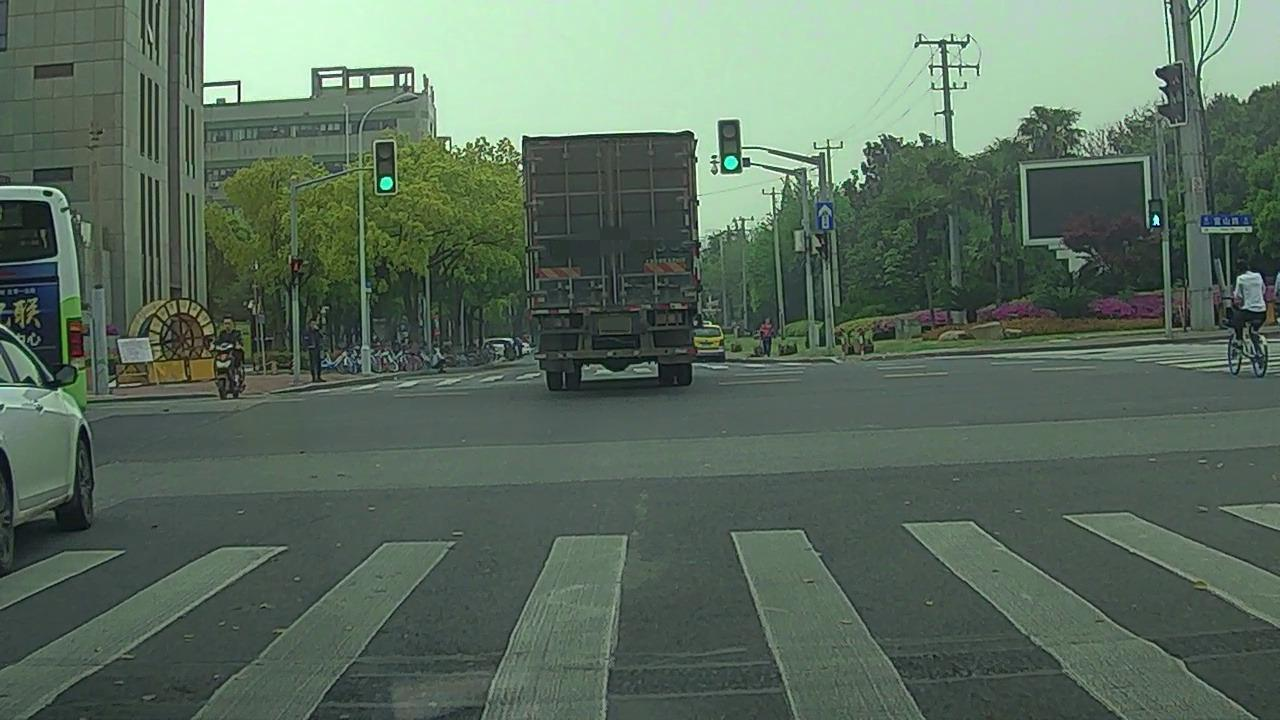traffic_light: (720, 121, 741, 173), (377, 143, 395, 193)
